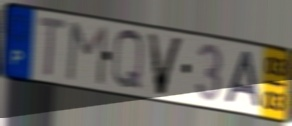3: (194, 41, 224, 105)
A: (221, 49, 264, 111)
M: (64, 20, 110, 88)
Q: (110, 27, 146, 93)
T: (37, 13, 69, 80)
V: (145, 30, 187, 98)
